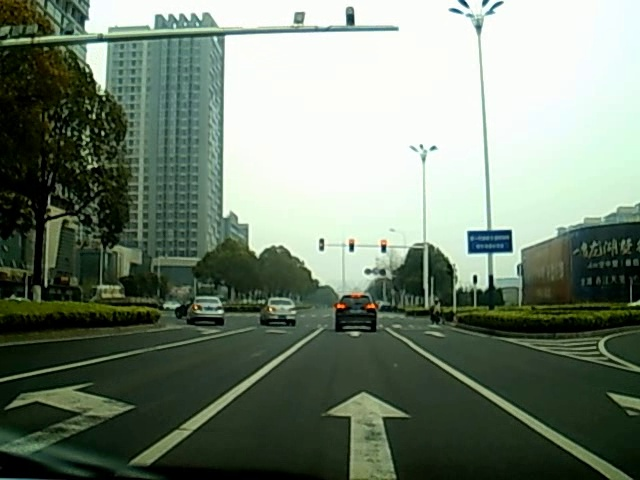Traffic_Light_stop: (348, 239, 356, 254), (380, 240, 387, 254)
